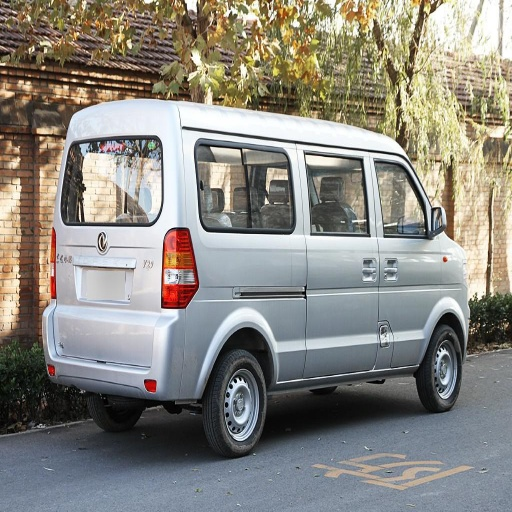back_bumper: (45, 301, 194, 396)
back_glass: (81, 136, 152, 166)
back_left_door: (380, 251, 444, 361)
back_right_door: (257, 148, 377, 284)
tailgate: (57, 224, 110, 300)
trunk: (180, 251, 348, 395), (57, 228, 167, 363)
